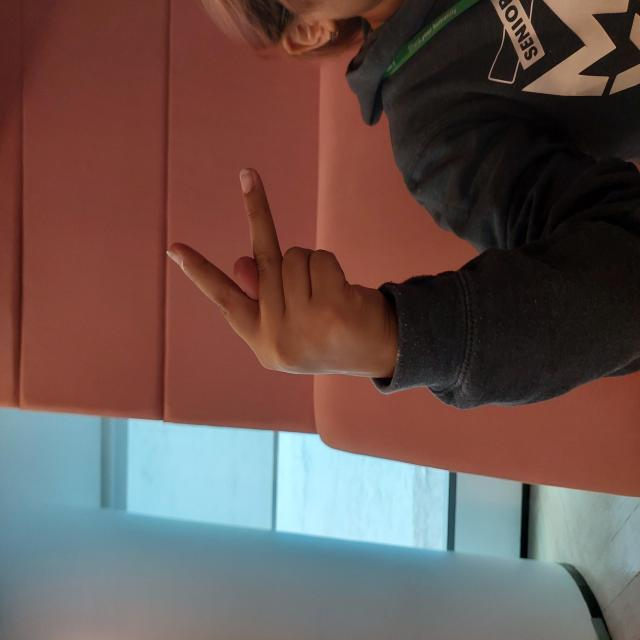K: (256, 160, 476, 386)
